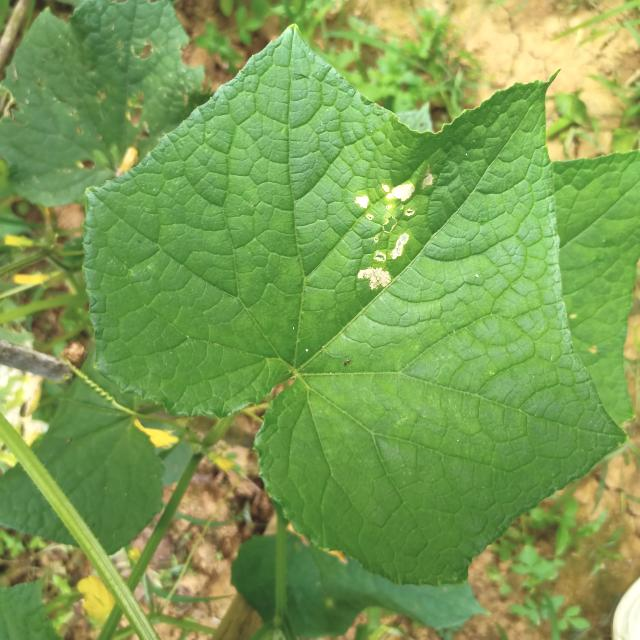disease_cucumber: (342, 165, 438, 306)
